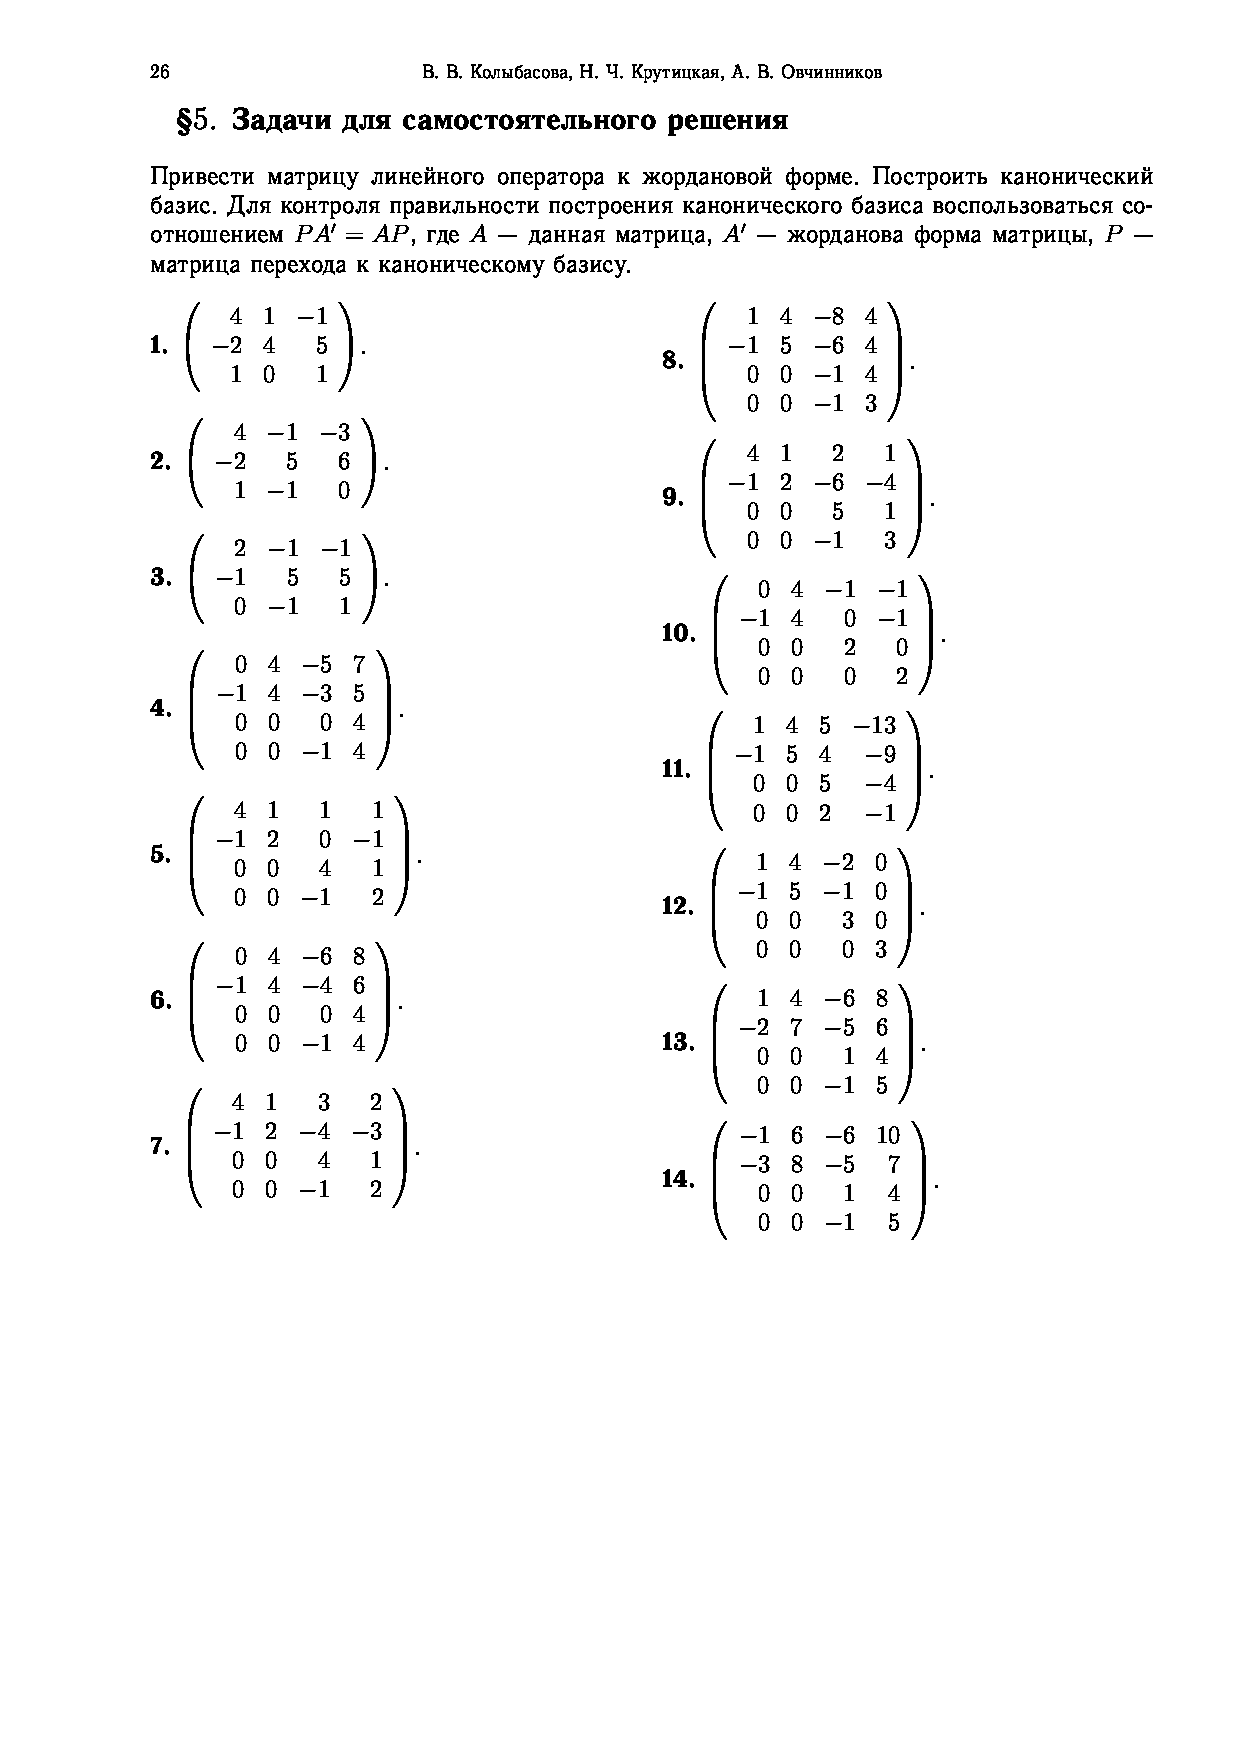pMatrix: (188, 793, 411, 921), (699, 435, 922, 558), (711, 576, 935, 698), (699, 298, 906, 429), (187, 935, 393, 1067), (706, 713, 922, 837), (187, 1084, 407, 1206), (710, 1121, 929, 1241), (709, 844, 913, 972), (188, 650, 393, 774), (710, 986, 917, 1107), (187, 533, 377, 631), (188, 415, 377, 511), (184, 298, 360, 399)
